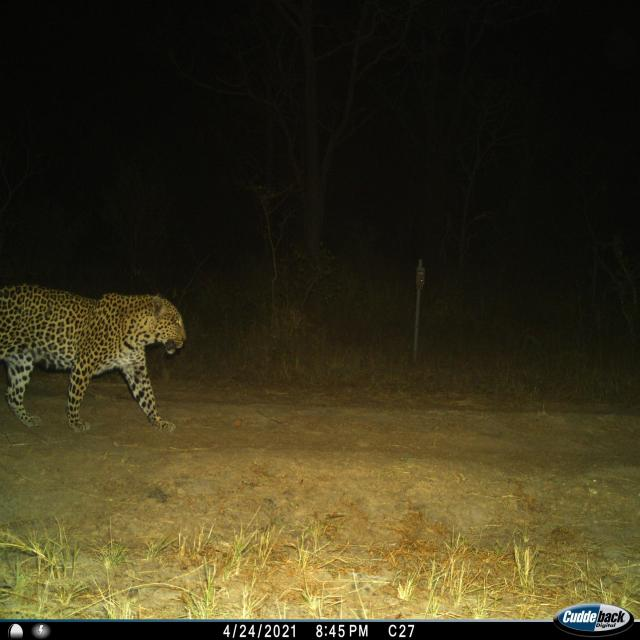Leopard: (4, 284, 202, 446)
